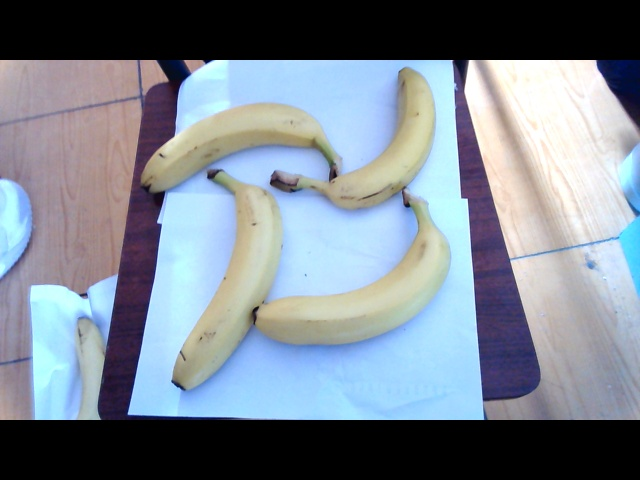banana: (256, 200, 452, 348), (174, 169, 274, 390), (140, 100, 336, 182), (333, 68, 445, 204)
